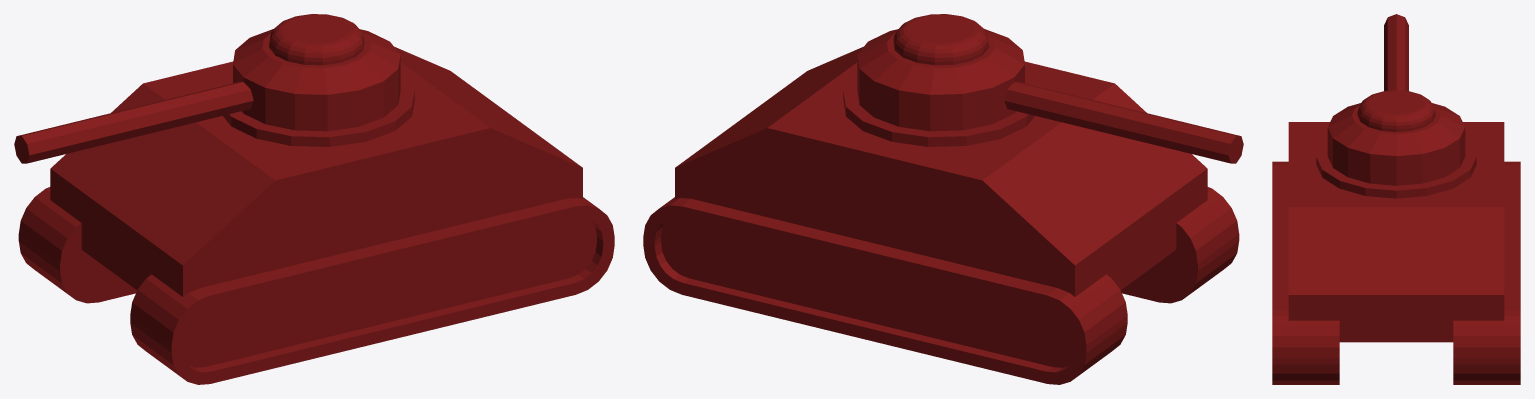
The model's file is tankToken.fbx.
3 views of the same model, side by side, from view 1: azimuth 30°, elevation 25°; view 2: azimuth 150°, elevation 25°; view 3: azimuth 270°, elevation 25° (orthographic). The views are drawn at different scales.
Parts seen in each view (by area): view 1: tank; view 2: tank; view 3: tank.
Part boxes in pixels (<box>): tank: <box>14,14,614,384</box>; tank: <box>643,14,1243,384</box>; tank: <box>1272,14,1520,384</box>.
Bounding box in the file's own units: 450 × 212 × 231.
